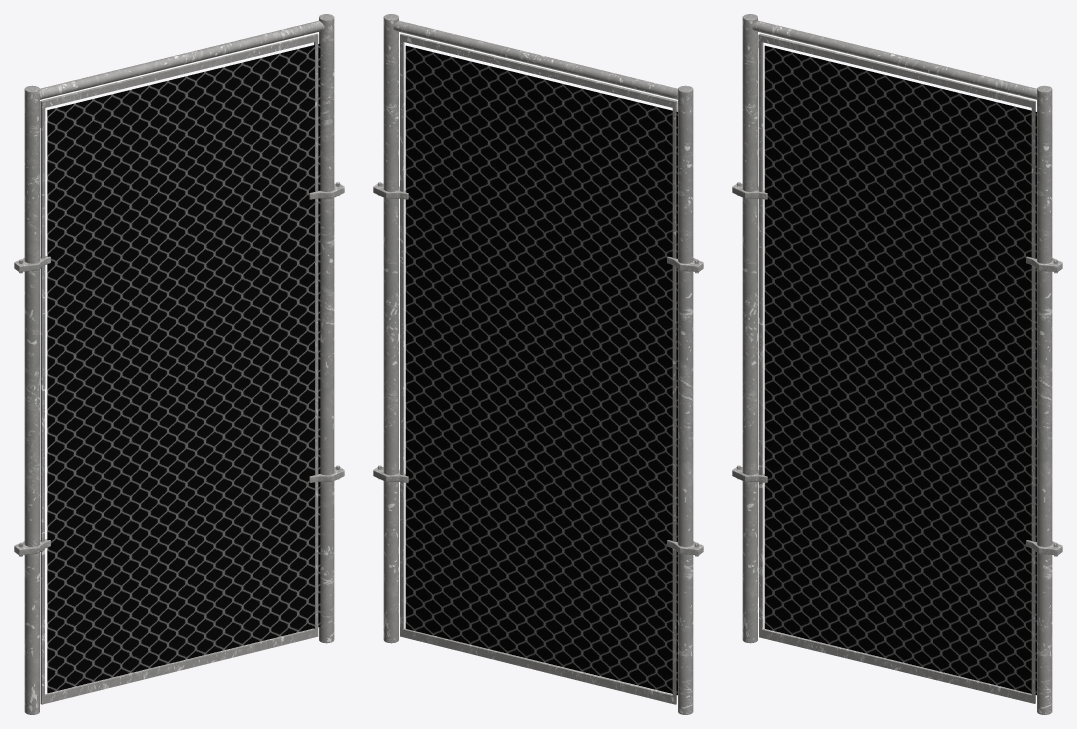
File: SM_Fence_100u.glb
3 renders of one model, left to right at view 1: azimuth 30°, elevation 25°; view 2: azimuth 150°, elevation 25°; view 3: azimuth 330°, elevation 25°, orthographic.
Visible parts, largest first — view 1: SM_Fence_100u; view 2: SM_Fence_100u; view 3: SM_Fence_100u.
Part boxes in pixels (x1,y1,x2,y2): SM_Fence_100u: (14,14,344,714); SM_Fence_100u: (373,14,703,714); SM_Fence_100u: (732,14,1062,714).
Size of the model in its own units: 1.44 by 2.64 by 0.0848.
2 materials, 2 textured.
